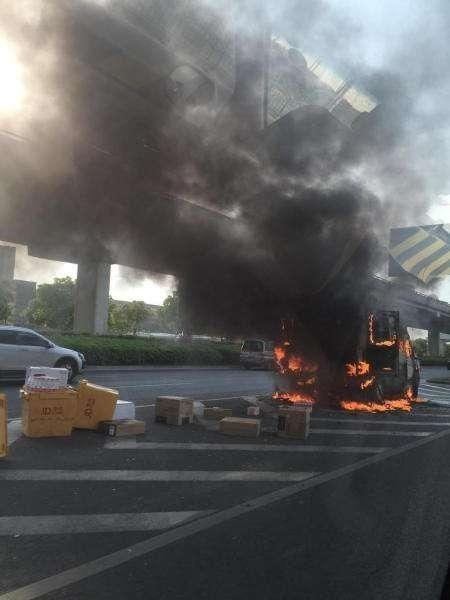fire: (265, 313, 421, 412)
